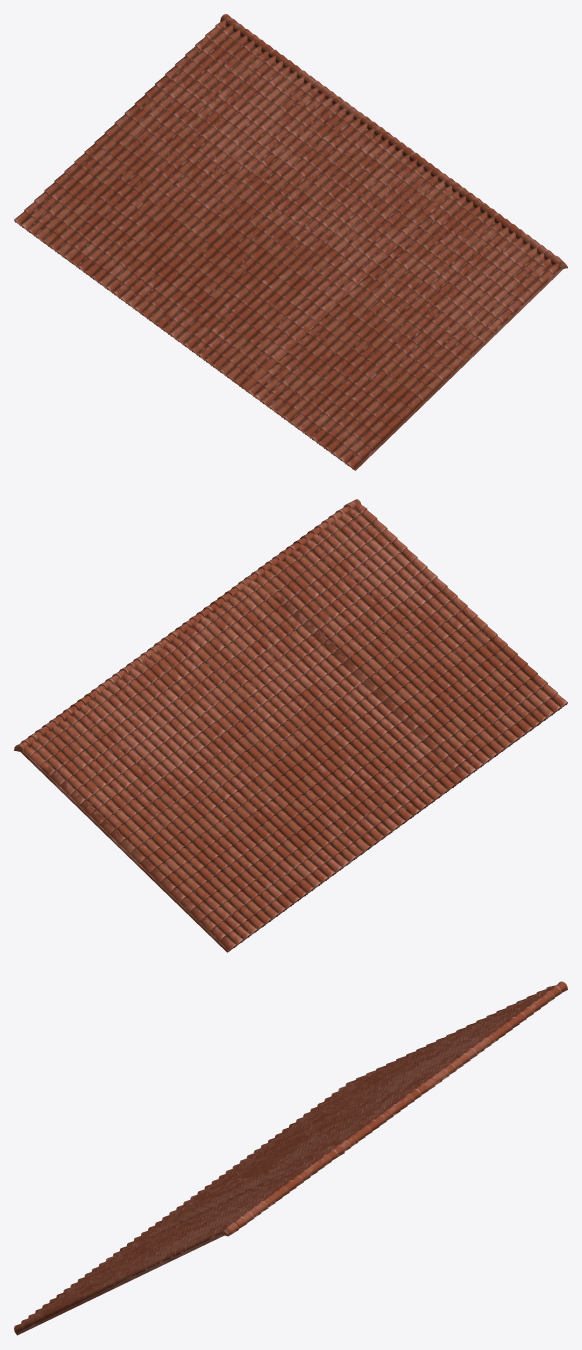
File: SM_Roof_C_Simple.fbx
The picture shows the model from 3 angles, top to bottom: view 1: azimuth 30°, elevation 25°; view 2: azimuth 150°, elevation 25°; view 3: azimuth 330°, elevation 25°; orthographic projection.
Parts seen in each view (by area): view 1: SM_Roof_C_Simple_LOD0; view 2: SM_Roof_C_Simple_LOD0; view 3: SM_Roof_C_Simple_LOD0.
Part boxes in pixels (bbox=[...]): SM_Roof_C_Simple_LOD0: bbox=[14, 14, 567, 470]; SM_Roof_C_Simple_LOD0: bbox=[14, 499, 567, 952]; SM_Roof_C_Simple_LOD0: bbox=[14, 981, 567, 1335].
Size of the model in its own units: 718 by 1932 by 495.
1 material, 1 textured.
